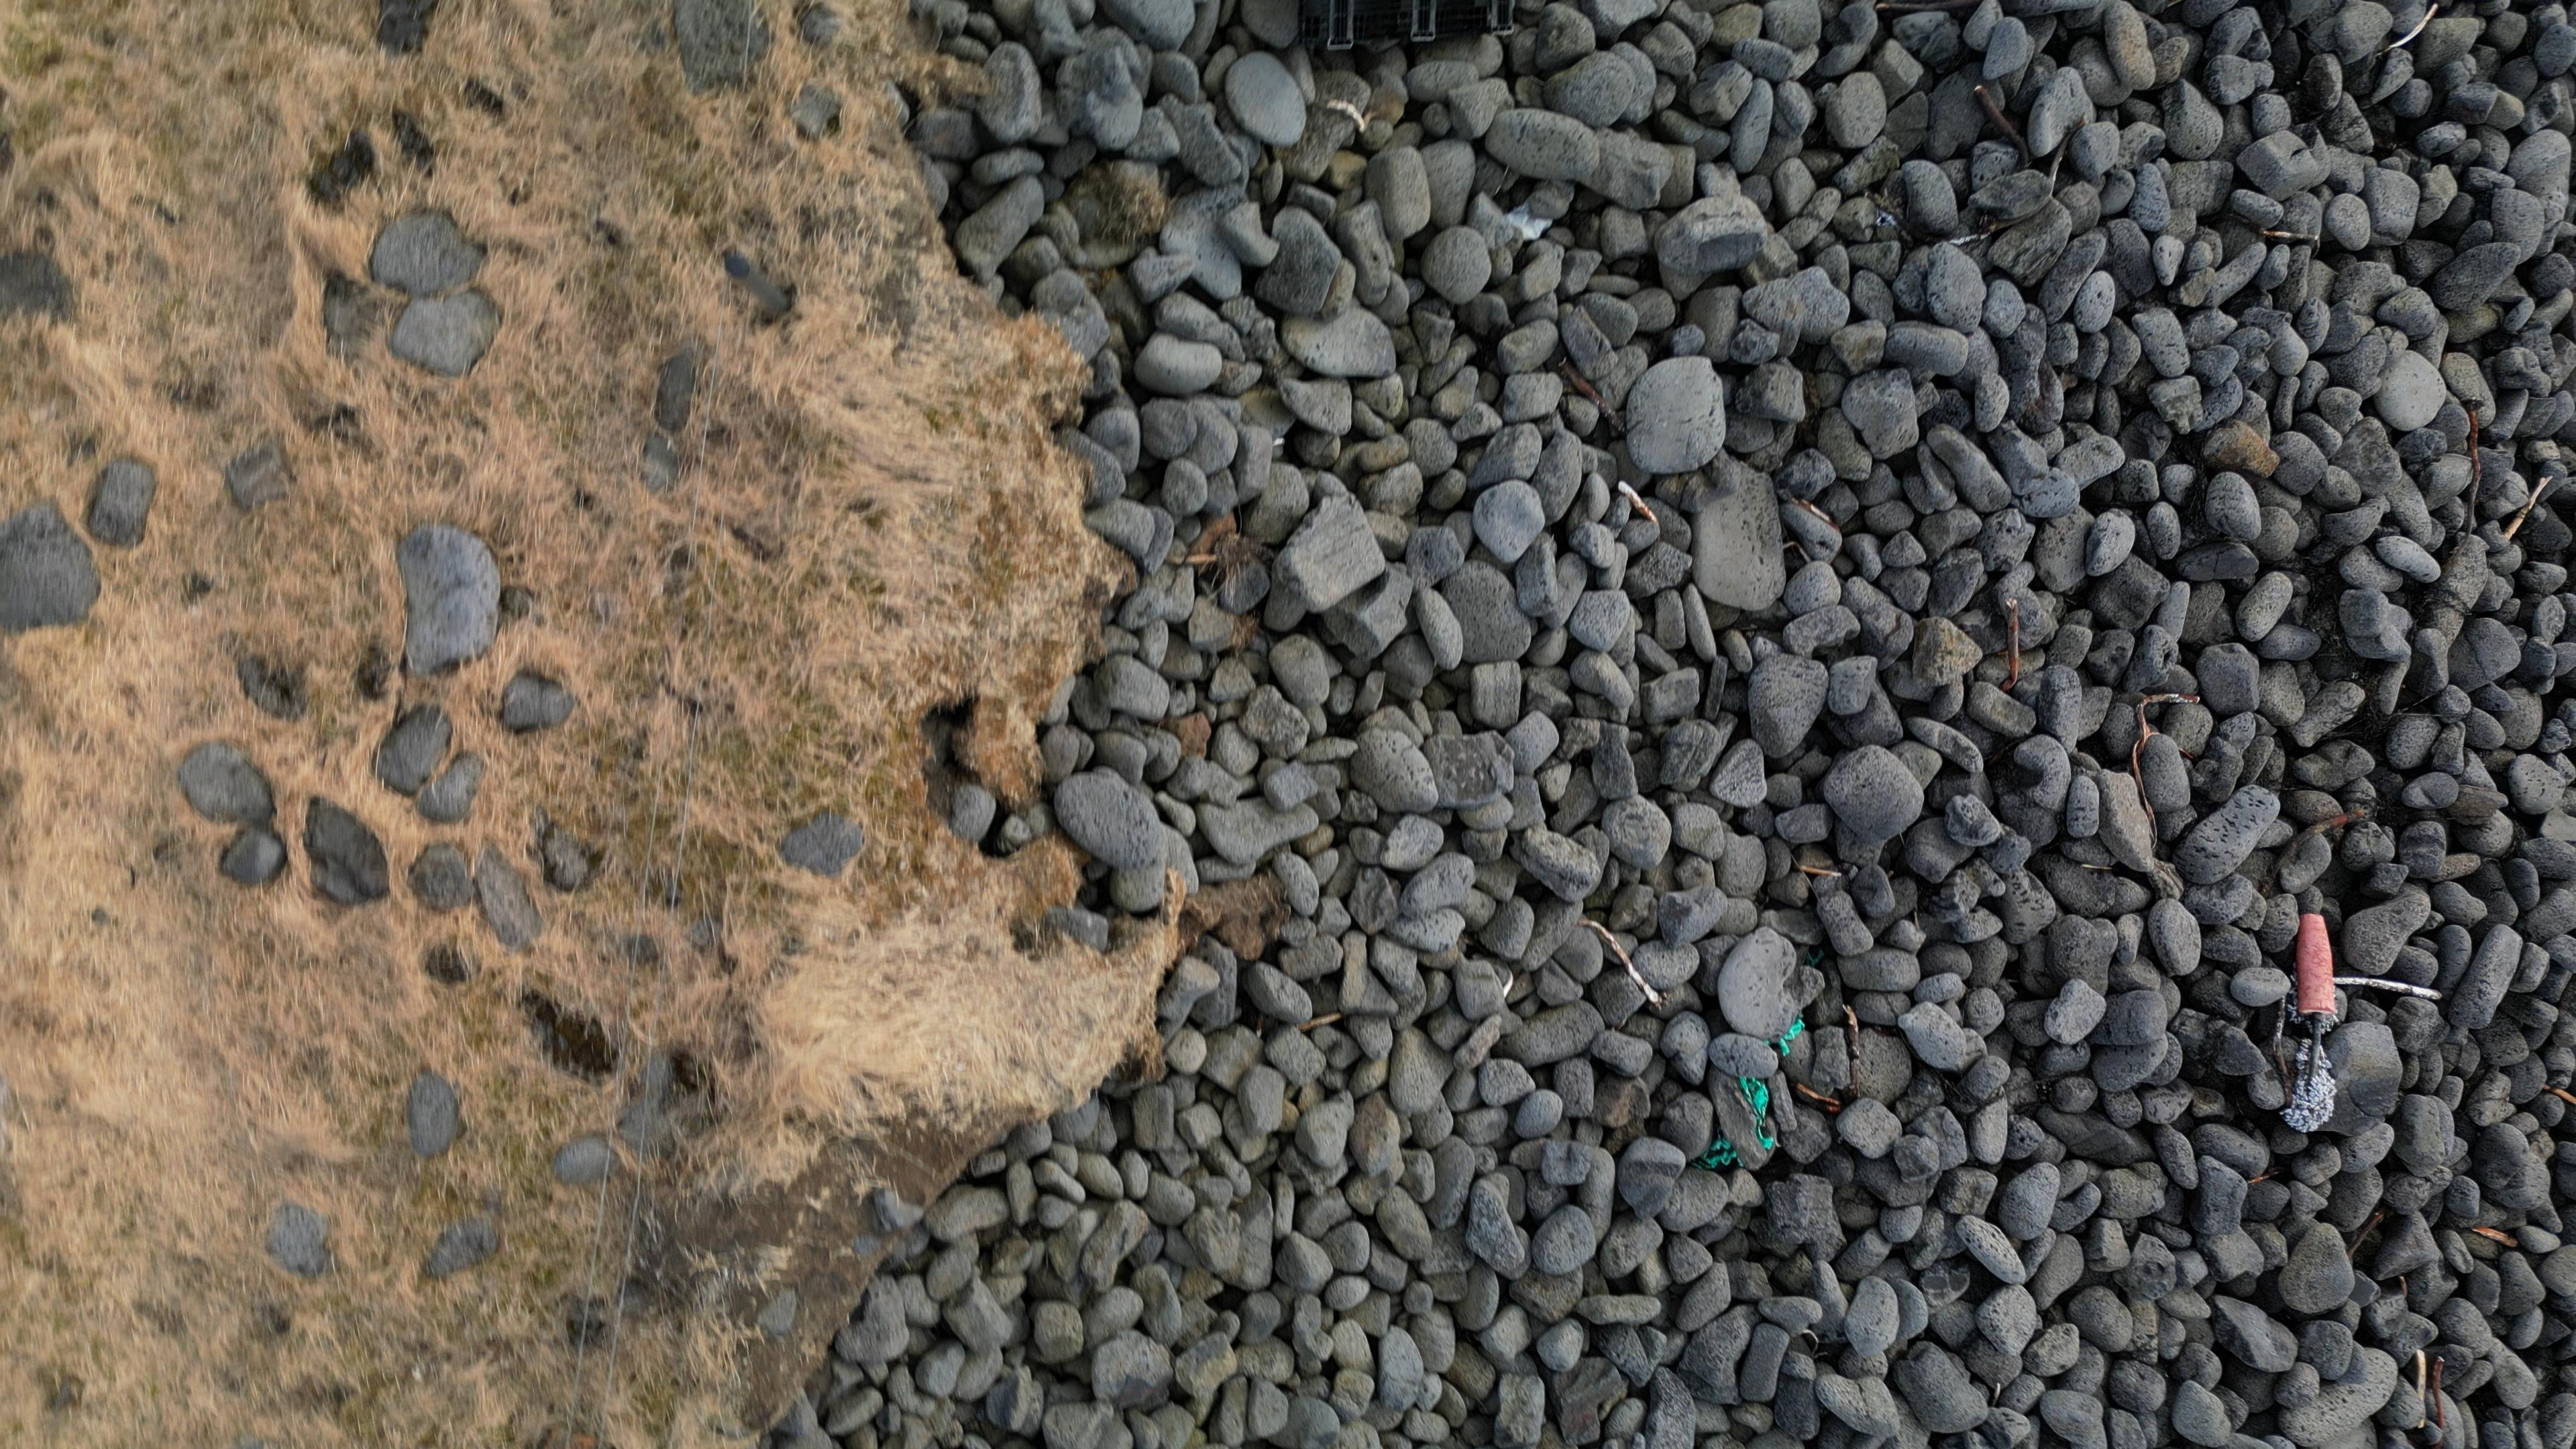trash: (1298, 0, 1515, 50)
